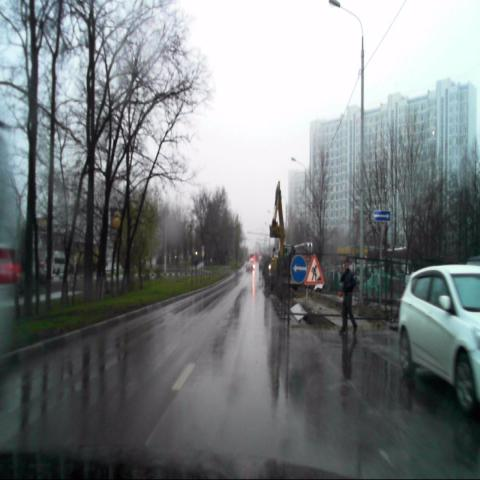1_25: (304, 253, 324, 284)
4_1_2_2: (290, 254, 306, 284)
